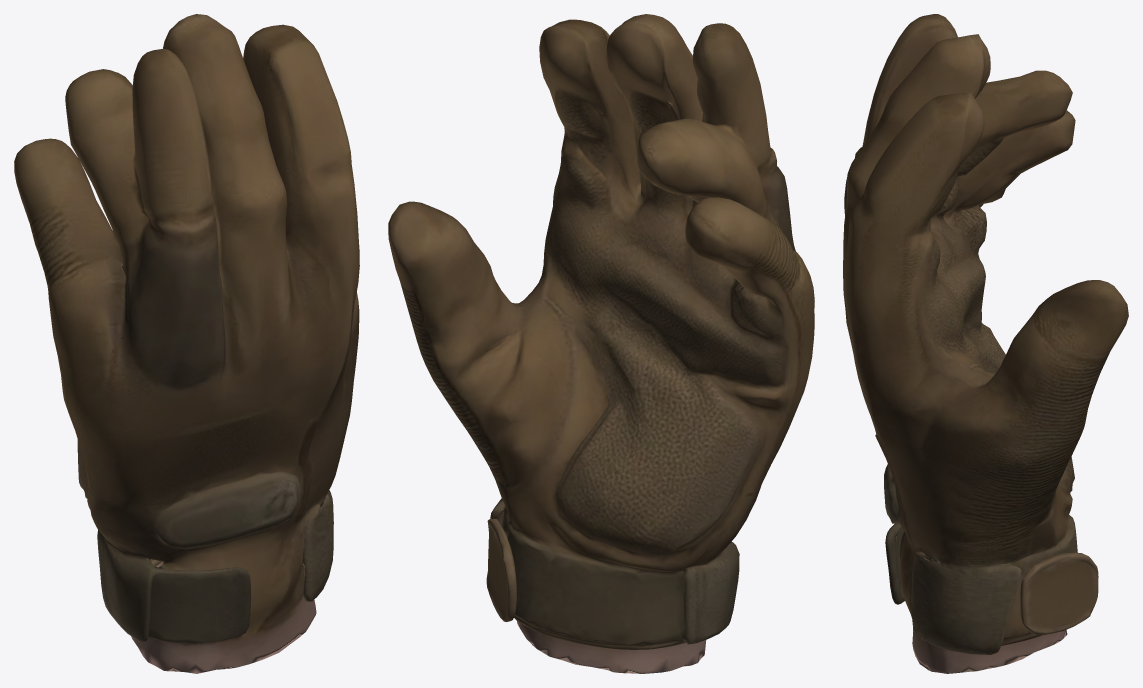
Rendered from vm_arm_left.glb.
3 views of the same model, side by side, from view 1: azimuth 30°, elevation 25°; view 2: azimuth 150°, elevation 25°; view 3: azimuth 270°, elevation 25° (orthographic). The views are drawn at different scales.
Visible parts, largest first — view 1: world; view 2: world; view 3: world.
Part boxes in pixels (left/top/right/bottom): world: left=14, top=14, right=359, bottom=673; world: left=388, top=14, right=814, bottom=673; world: left=843, top=14, right=1128, bottom=673.
Size of the model in its own units: 0.5097 by 0.9087 by 0.3905.
1 material, 1 textured.
